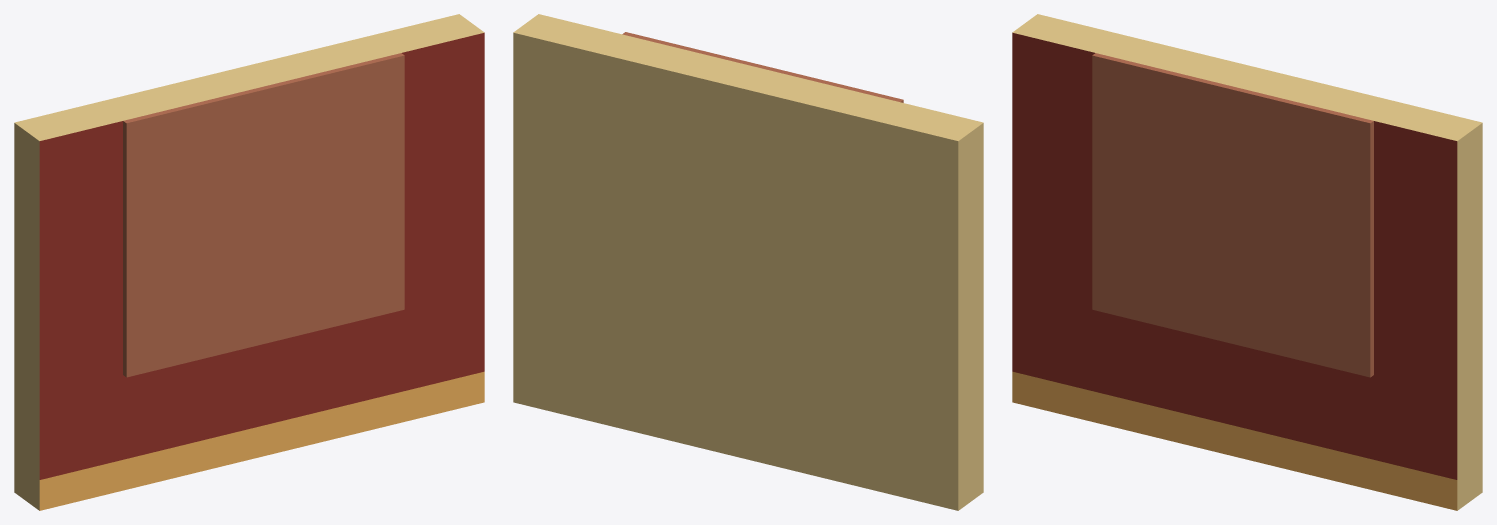
Rendered from BureauJuge_Mur01.fbx.
The picture shows the model from 3 angles, left to right: view 1: azimuth 30°, elevation 25°; view 2: azimuth 150°, elevation 25°; view 3: azimuth 330°, elevation 25°; orthographic projection.
Visible parts, largest first — view 1: Mur01; view 2: Mur01; view 3: Mur01.
Part boxes in pixels (box(x1,y1,x2,y2)): Mur01: box(14, 14, 484, 510); Mur01: box(513, 14, 983, 510); Mur01: box(1012, 14, 1482, 510).
Bounding box in the file's own units: 8.17 × 6.49 × 0.9174.
